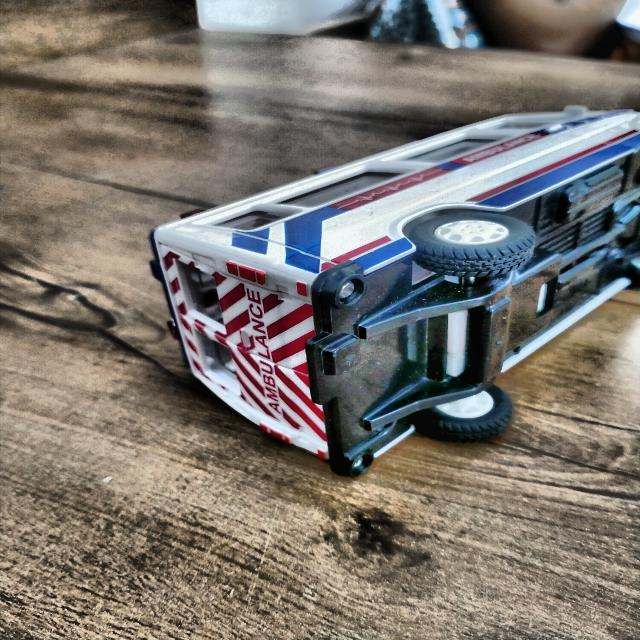Ambulance: (145, 112, 640, 482)
